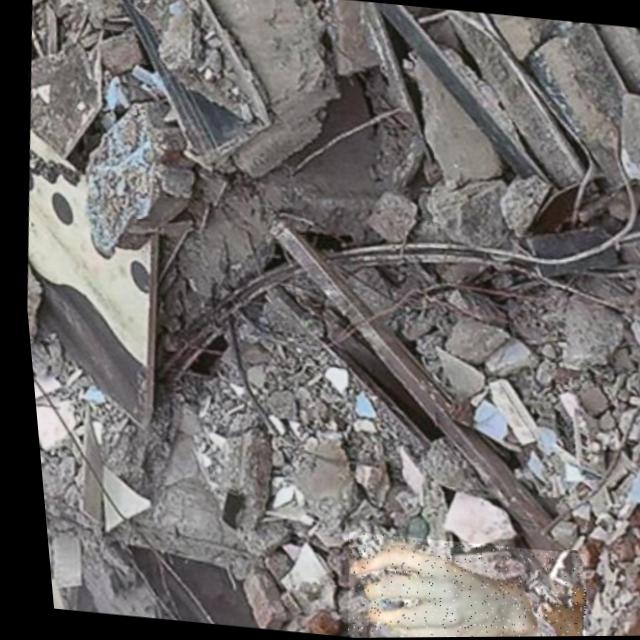Person in Rubble: (327, 529, 581, 638)
